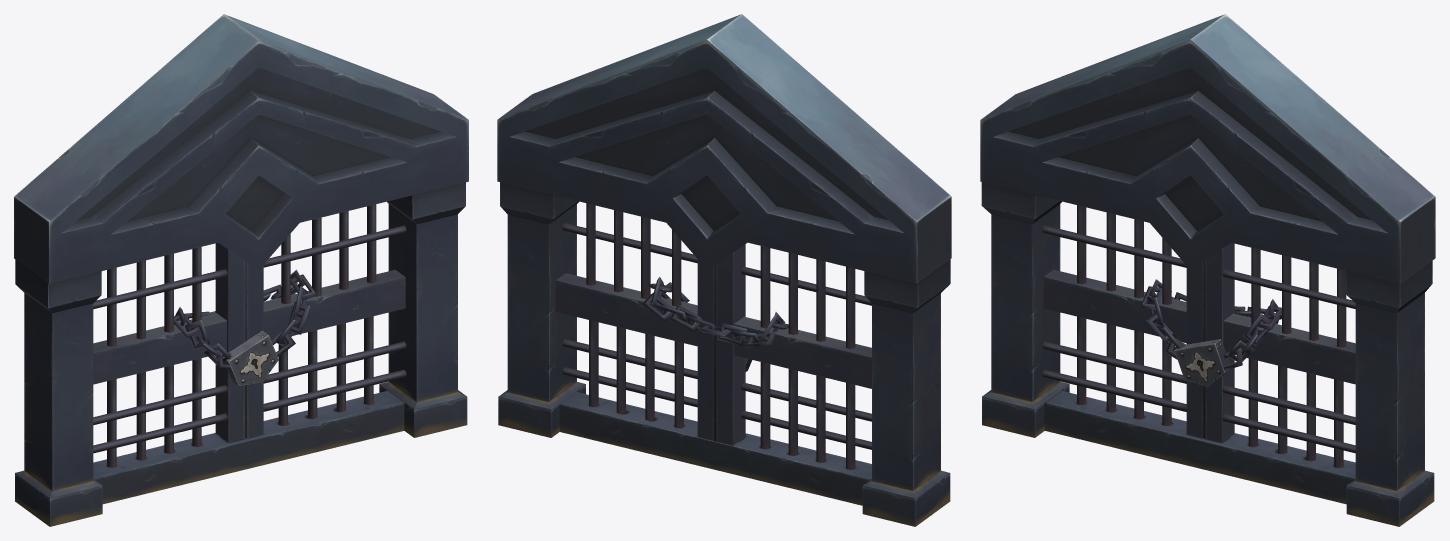
The model's file is scene_malujiakuangdao_door01.FBX.
The picture shows the model from 3 angles, left to right: view 1: azimuth 30°, elevation 25°; view 2: azimuth 150°, elevation 25°; view 3: azimuth 330°, elevation 25°; orthographic projection.
Parts seen in each view (by area): view 1: scene_malujiakuangdao_door01; view 2: scene_malujiakuangdao_door01; view 3: scene_malujiakuangdao_door01.
Boxes of the visible parts, x1=… form: scene_malujiakuangdao_door01: x1=14, y1=14, x2=468, y2=526; scene_malujiakuangdao_door01: x1=497, y1=14, x2=951, y2=526; scene_malujiakuangdao_door01: x1=980, y1=14, x2=1435, y2=526.
Size of the model in its own units: 502 by 499 by 72.93.
